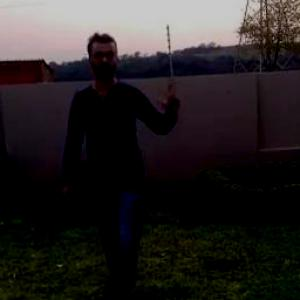land_hand: (158, 73, 185, 115)
